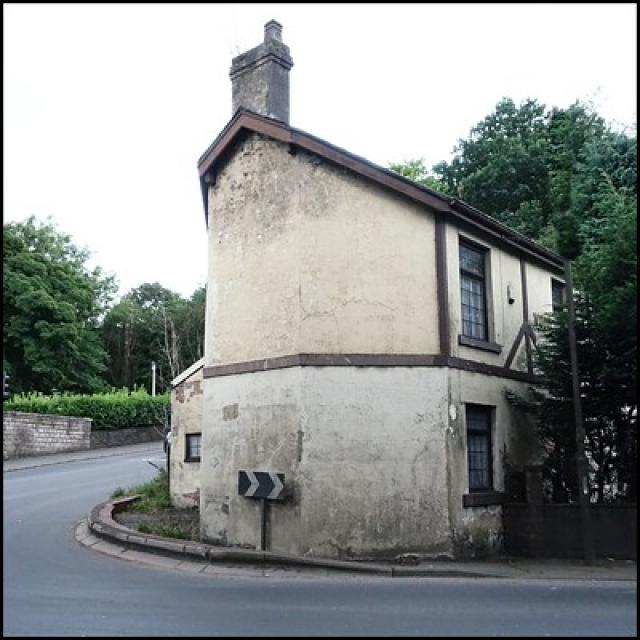Normal_building: (163, 55, 602, 569)
